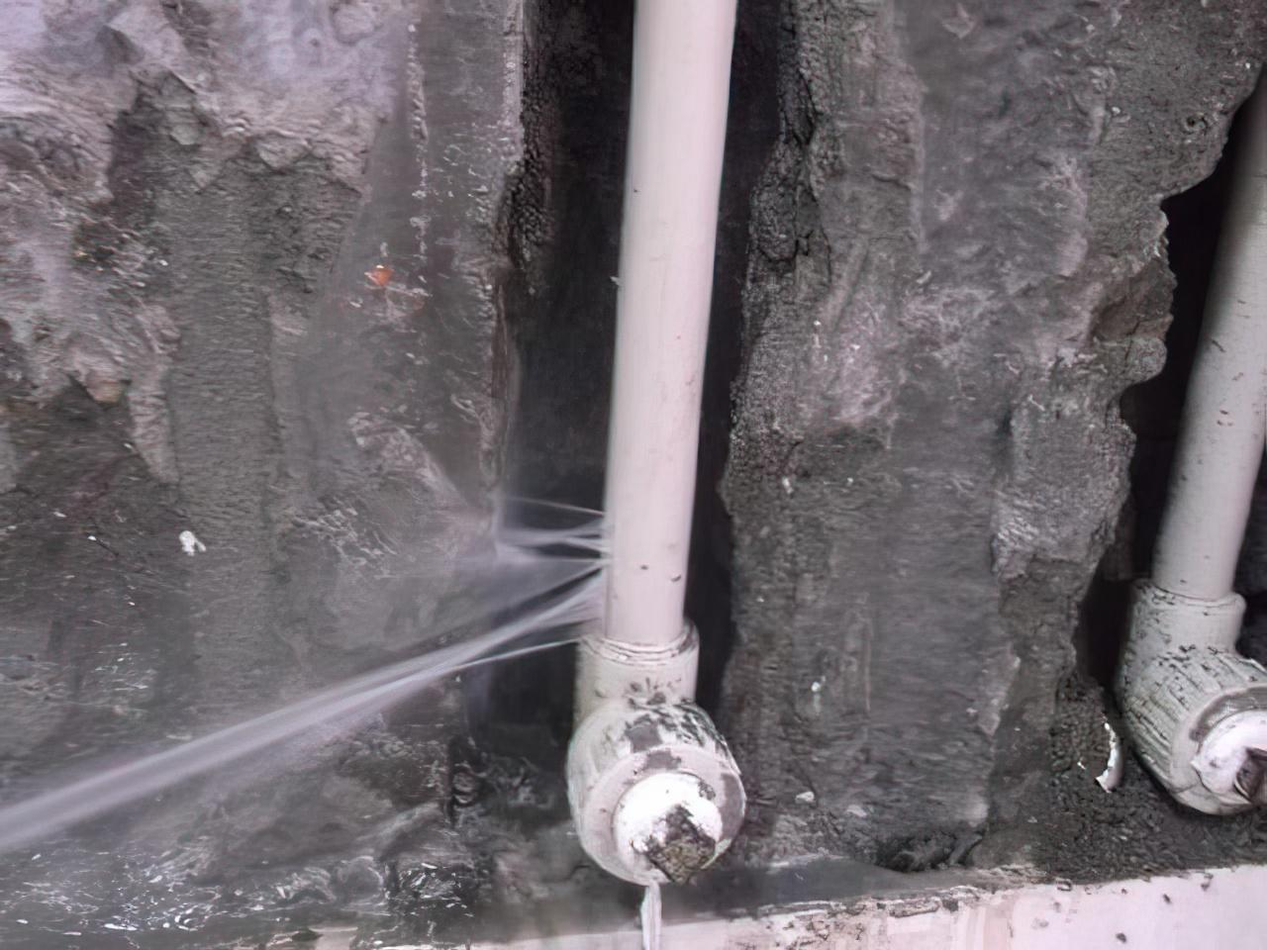pipe burst: (0, 487, 623, 851)
